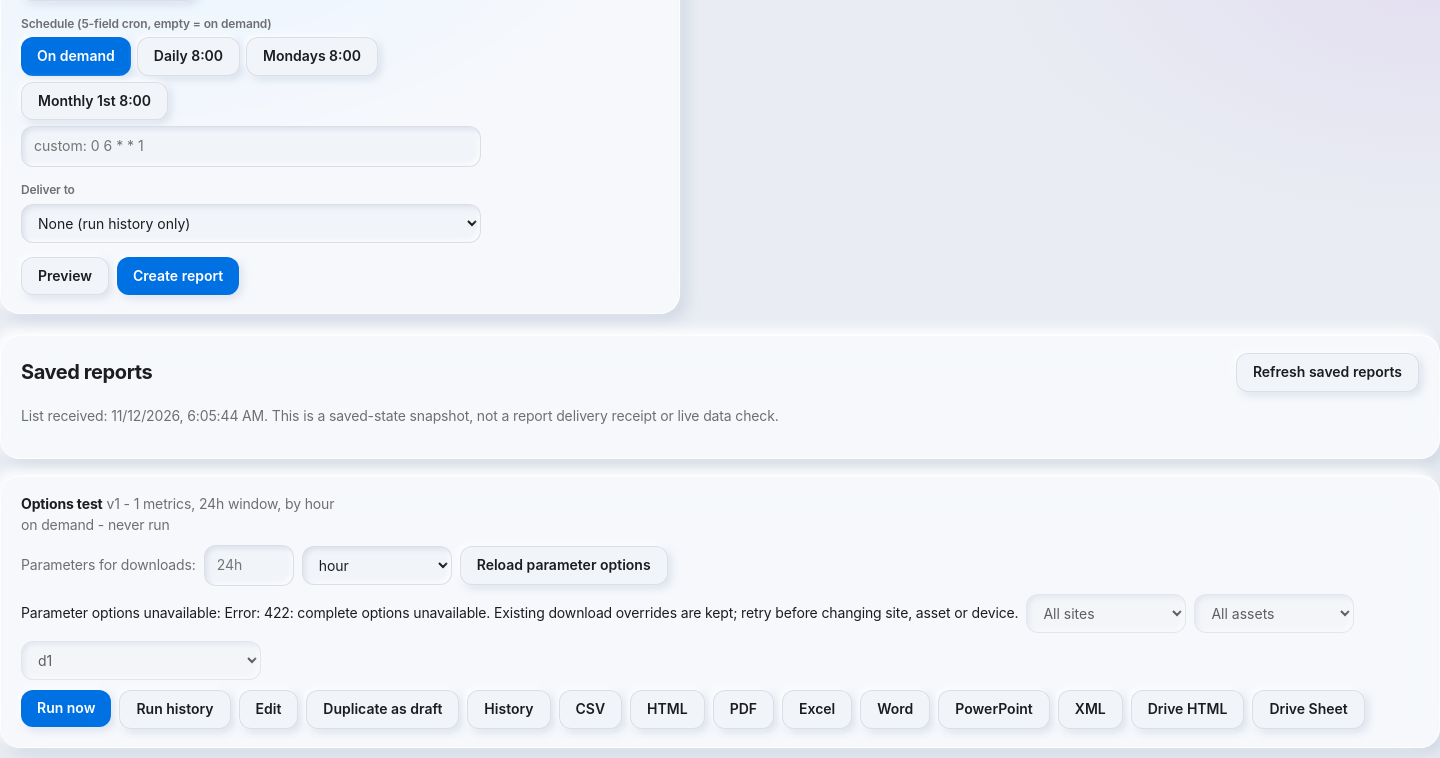
Test: parameter options failure disables selectors and retry validates rows
(page scrolled)
Expected: the dropdown named "Site parameter" is disabled, [1026,594,1186,633]
Click the button "Reload parameter options": (564, 566) [460,546,668,585]
(page scrolled)
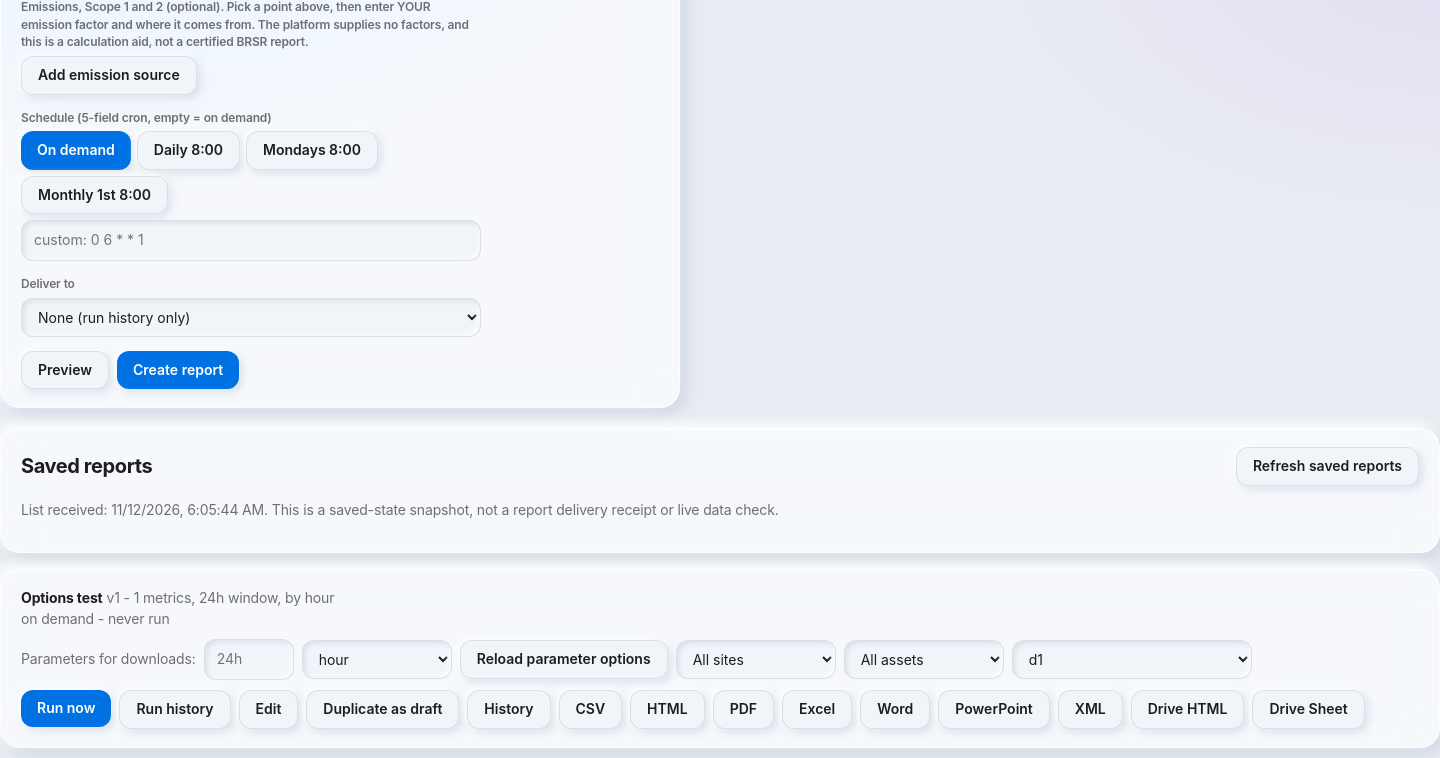
Now the dropdown named "Site parameter" is enabled
Select "Site" in the dropdown named "Site parameter": (756, 660) [676,640,836,679]
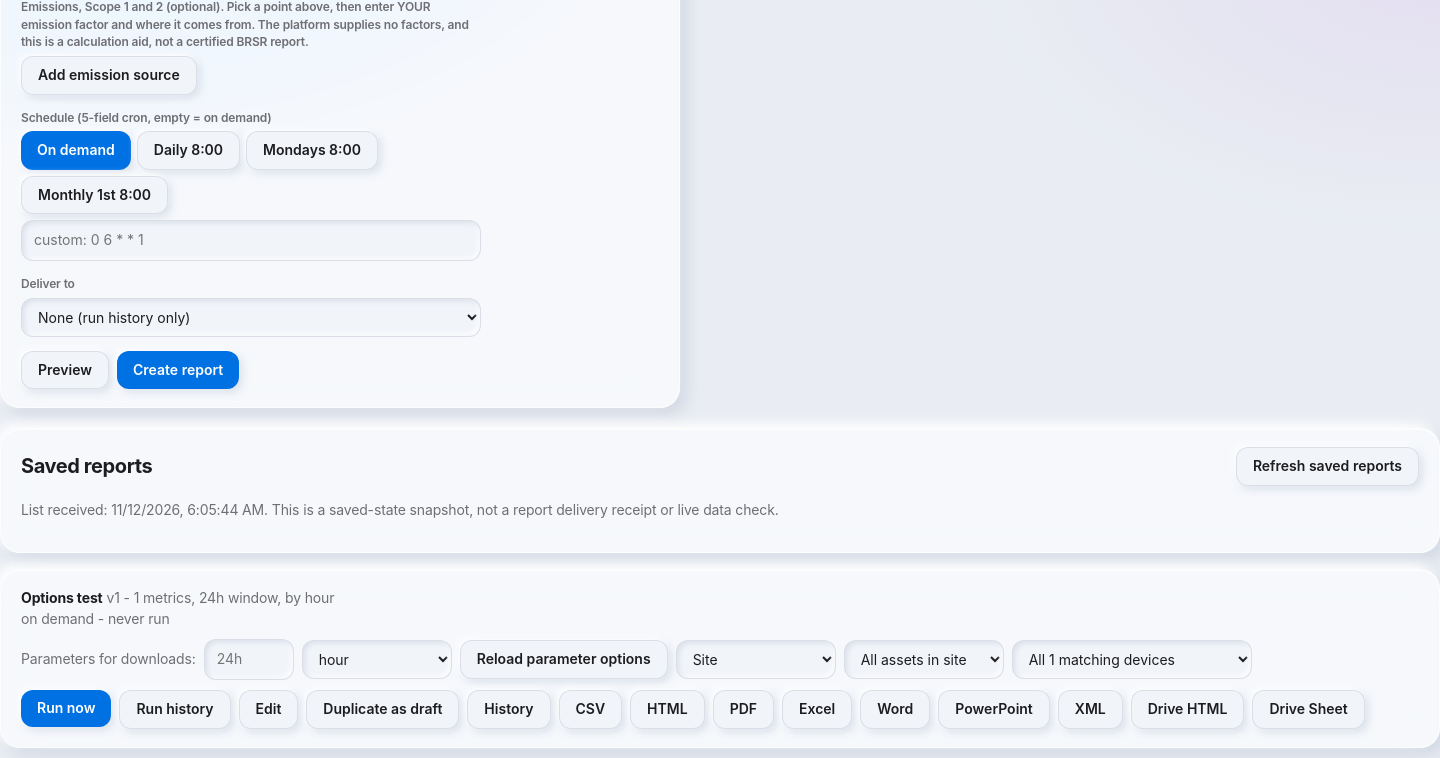
Click the button "Reload parameter options": (564, 660) [460,640,668,679]
(page scrolled)
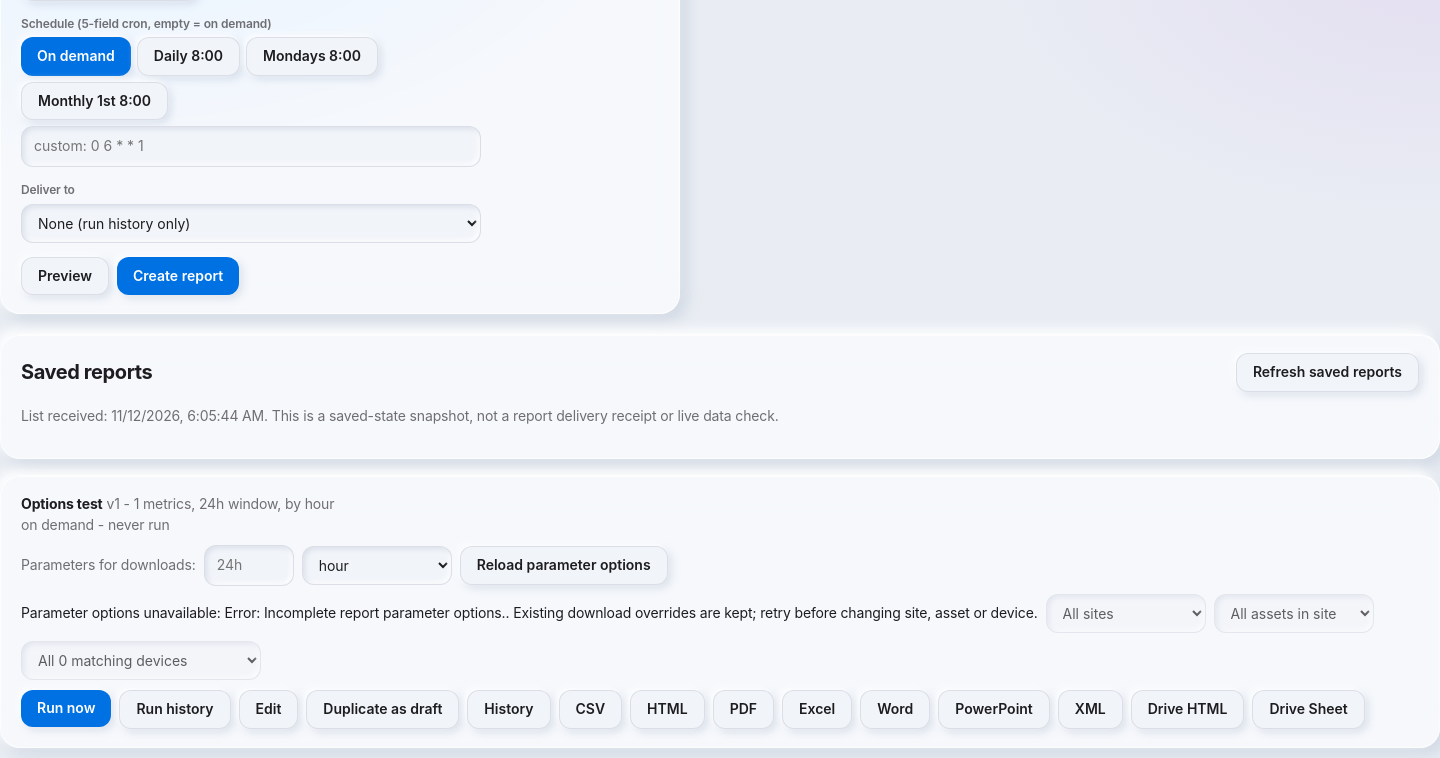
Now the text "Incomplete report parameter options" is shown, box [224,604,506,621]
Now the dropdown named "Site parameter" is disabled, box [1046,594,1206,633]
